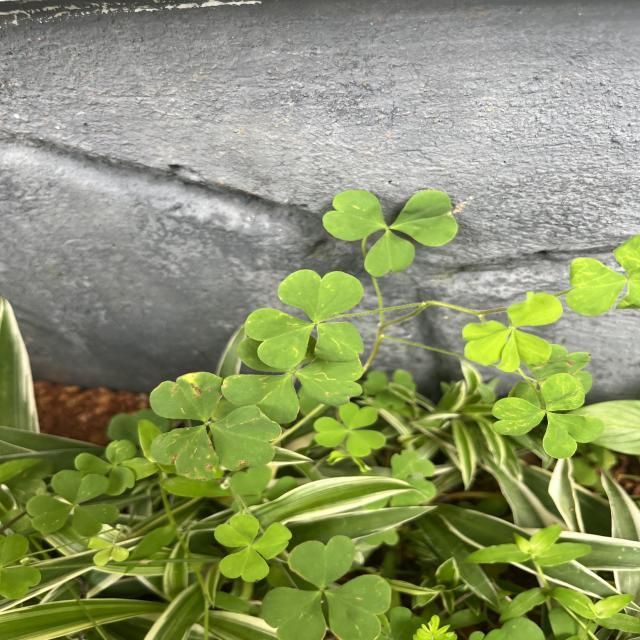Oxalis corniculata: (148, 369, 284, 482), (260, 534, 394, 640), (320, 186, 460, 280), (243, 268, 364, 370), (491, 372, 605, 460), (460, 290, 564, 374), (25, 468, 121, 538), (214, 513, 294, 583), (313, 400, 387, 458)
